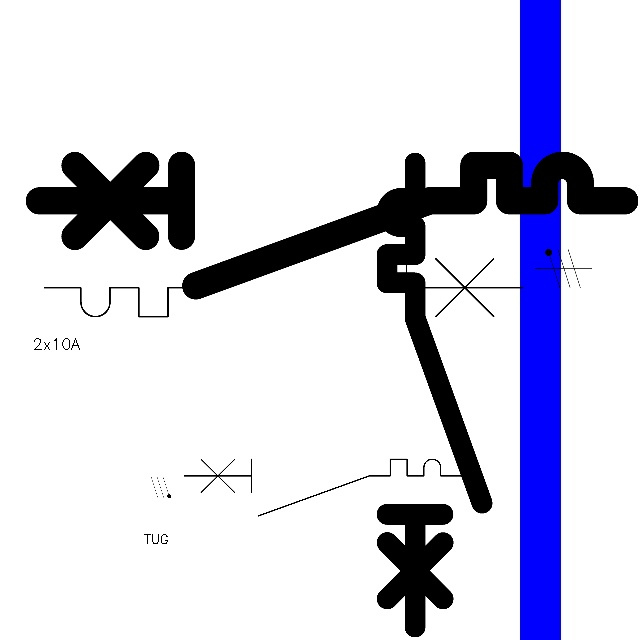interruptor_termomagnetico: (24, 150, 640, 301), (32, 206, 535, 329), (375, 151, 494, 639), (177, 452, 469, 523)
